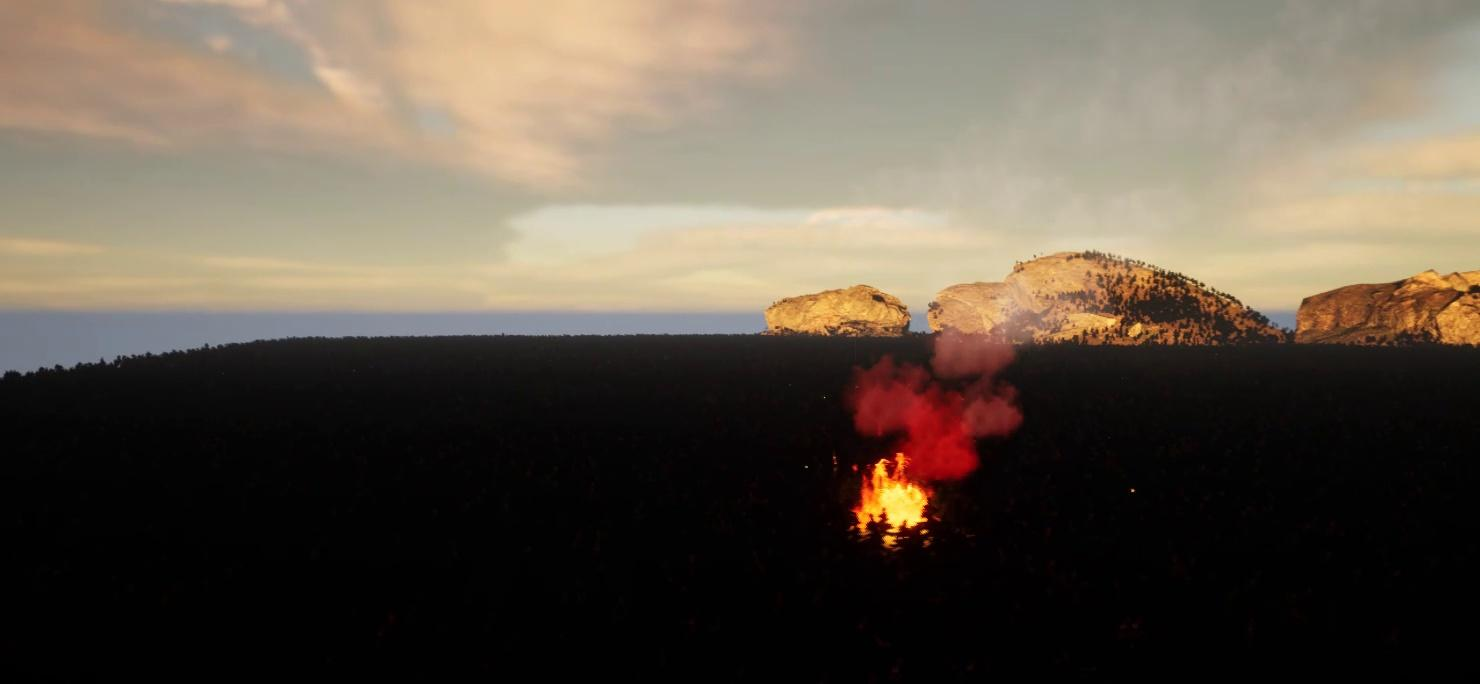fire: (854, 452, 928, 547)
smoke: (846, 301, 1023, 475)
